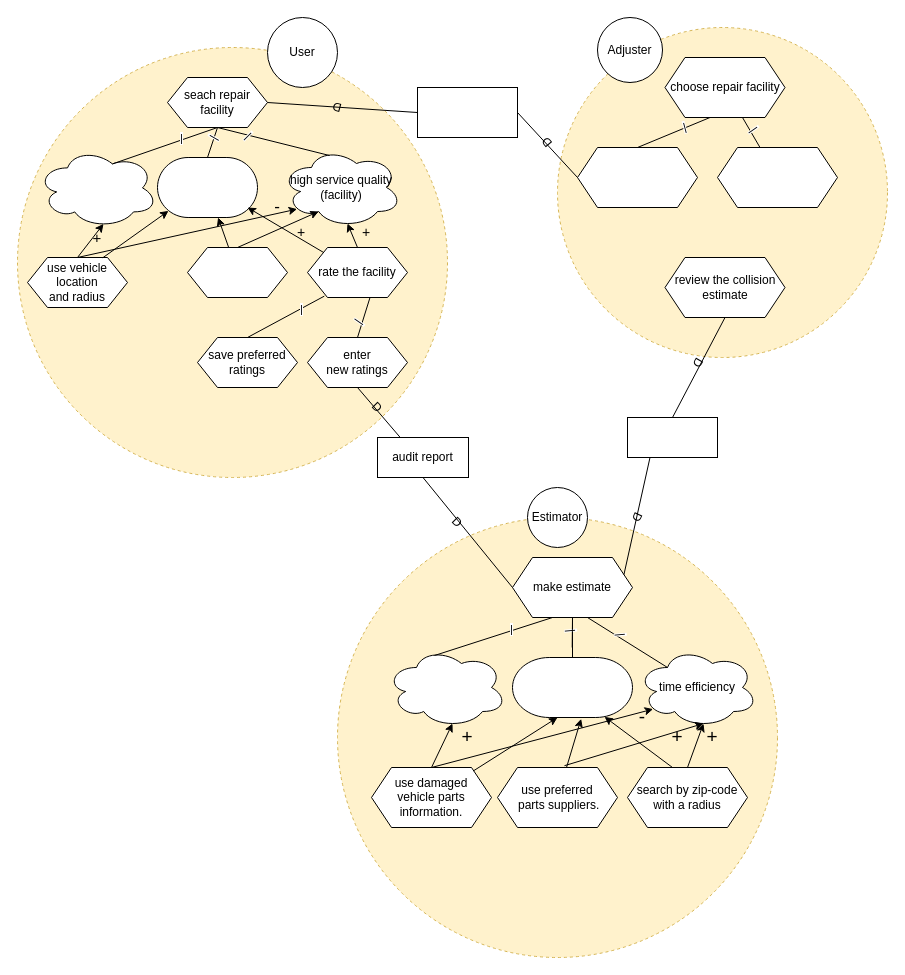
Image size: 905x975. Some labels were removed from this diagram. The centre of each missing label's shape, as x and y in pixels:
"collision estimate" belongs at pixel 672 437.
"enter preferred facility" belongs at pixel 637 177.
"facility information" belongs at pixel 467 112.
"find repair facility" belongs at pixel 207 187.
"low cost" belongs at pixel 446 687.
"override preferred facility" belongs at pixel 777 177.
"search for available recycled parts" belongs at pixel 572 687.
"short distance (facility)" belongs at pixel 97 187.
"view ratings" belongs at pixel 237 272.
